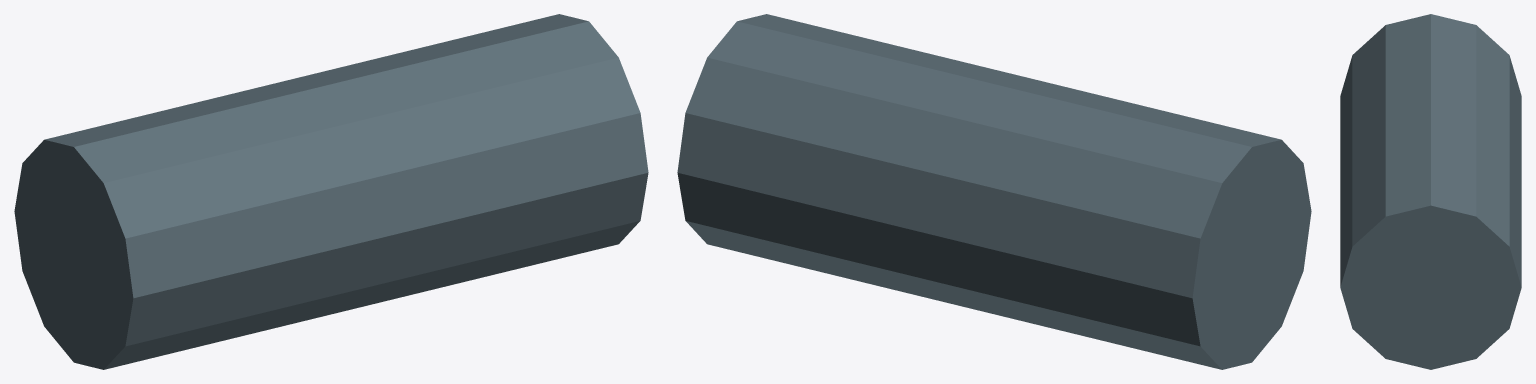
The model's file is SM_Factory_Large_pipe_2m.glb.
3 views of the same model, side by side, from view 1: azimuth 30°, elevation 25°; view 2: azimuth 150°, elevation 25°; view 3: azimuth 270°, elevation 25° (orthographic). The views are drawn at different scales.
Parts seen in each view (by area): view 1: SM_Factory_Large_pipe_2m; view 2: SM_Factory_Large_pipe_2m; view 3: SM_Factory_Large_pipe_2m.
Boxes of the visible parts, x1,y1,x2,y2 form: SM_Factory_Large_pipe_2m: [14, 14, 648, 369]; SM_Factory_Large_pipe_2m: [677, 14, 1311, 369]; SM_Factory_Large_pipe_2m: [1340, 14, 1521, 369].
Bounding box in the file's own units: 2 × 0.8 × 0.8.
1 material, 1 textured.
